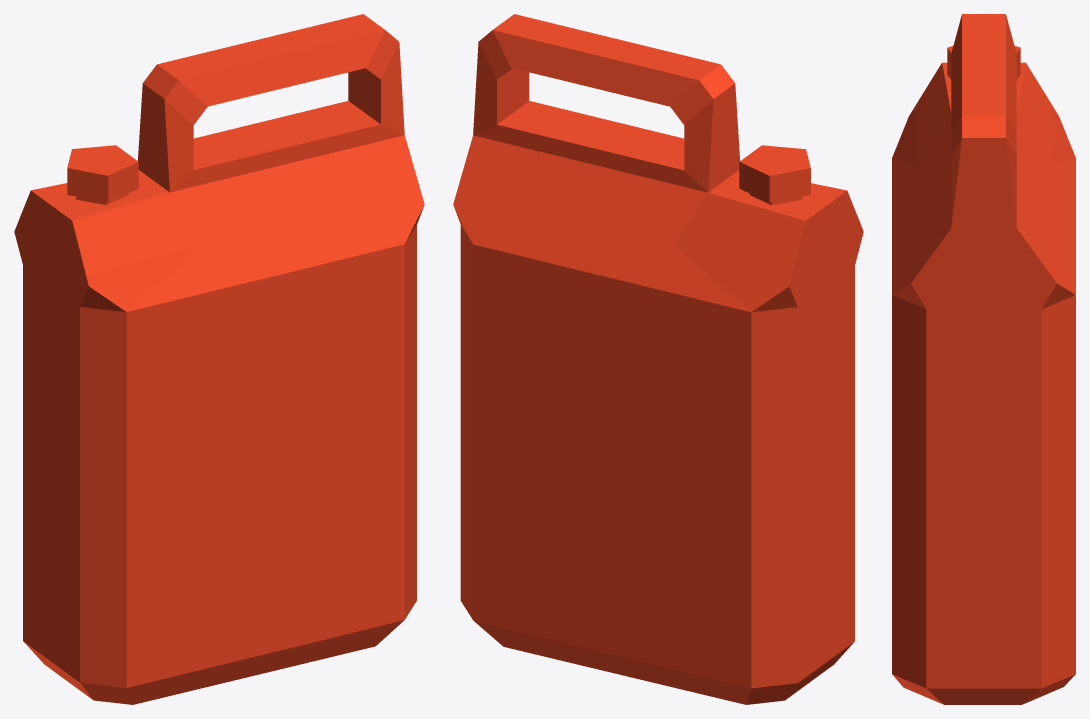
File: SM_Washer_Fluid_City.fbx
3 renders of one model, left to right at view 1: azimuth 30°, elevation 25°; view 2: azimuth 150°, elevation 25°; view 3: azimuth 270°, elevation 25°, orthographic.
Parts seen in each view (by area): view 1: SM_Washer_Fluid_City; view 2: SM_Washer_Fluid_City; view 3: SM_Washer_Fluid_City.
Boxes of the visible parts, bbox=[...] form: SM_Washer_Fluid_City: bbox=[14, 14, 424, 704]; SM_Washer_Fluid_City: bbox=[453, 14, 863, 704]; SM_Washer_Fluid_City: bbox=[892, 14, 1075, 704].
Size of the model in its own units: 0.2108 by 0.3501 by 0.0988.
